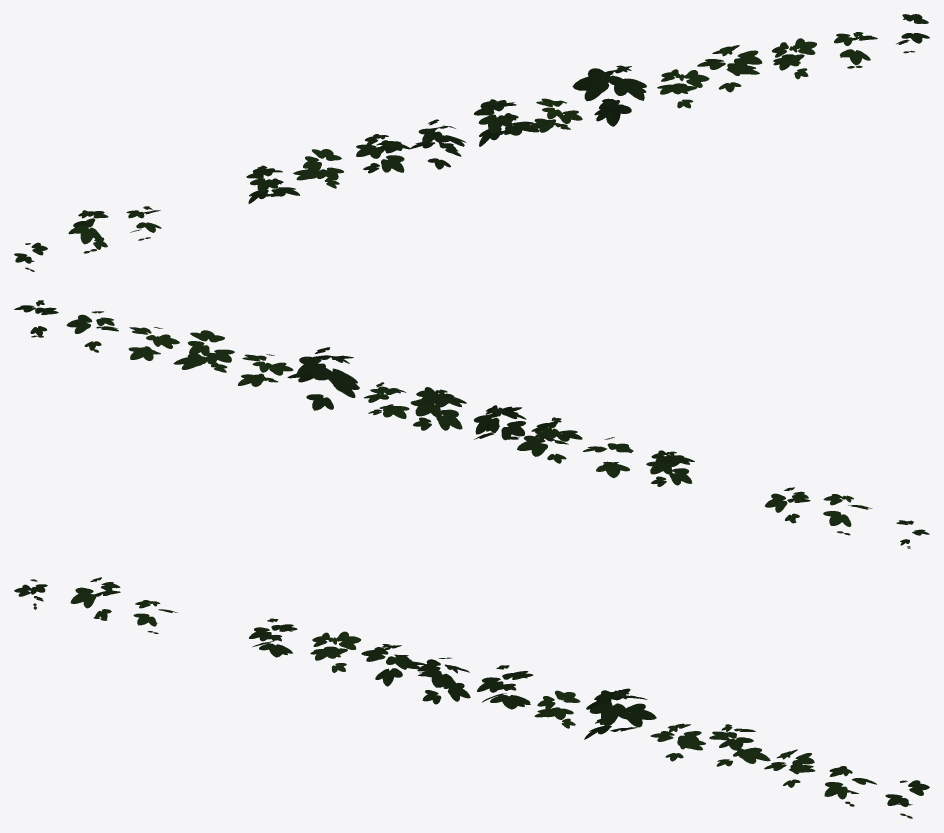
File: ROW_08_SEG3_foliage.dae
3 renders of one model, top to bottom at view 1: azimuth 30°, elevation 25°; view 2: azimuth 150°, elevation 25°; view 3: azimuth 330°, elevation 25°, orthographic.
Parts seen in each view (by area): view 1: ROW_08_SEG3_foliage; view 2: ROW_08_SEG3_foliage; view 3: ROW_08_SEG3_foliage.
Part boxes in pixels (box(x1,y1,x2,y2)): ROW_08_SEG3_foliage: box(14, 14, 929, 271); ROW_08_SEG3_foliage: box(14, 300, 929, 548); ROW_08_SEG3_foliage: box(14, 577, 929, 818).
Size of the model in its own units: 4.77 by 0.3598 by 0.2905.
